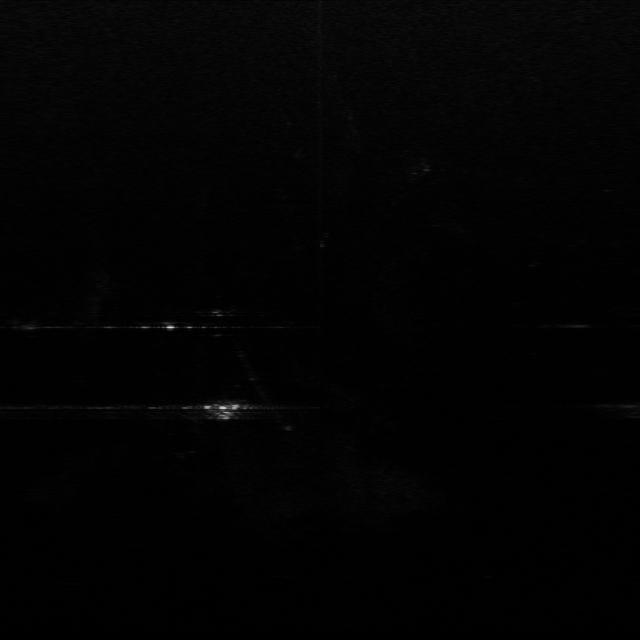rov: (200, 401, 246, 421)
